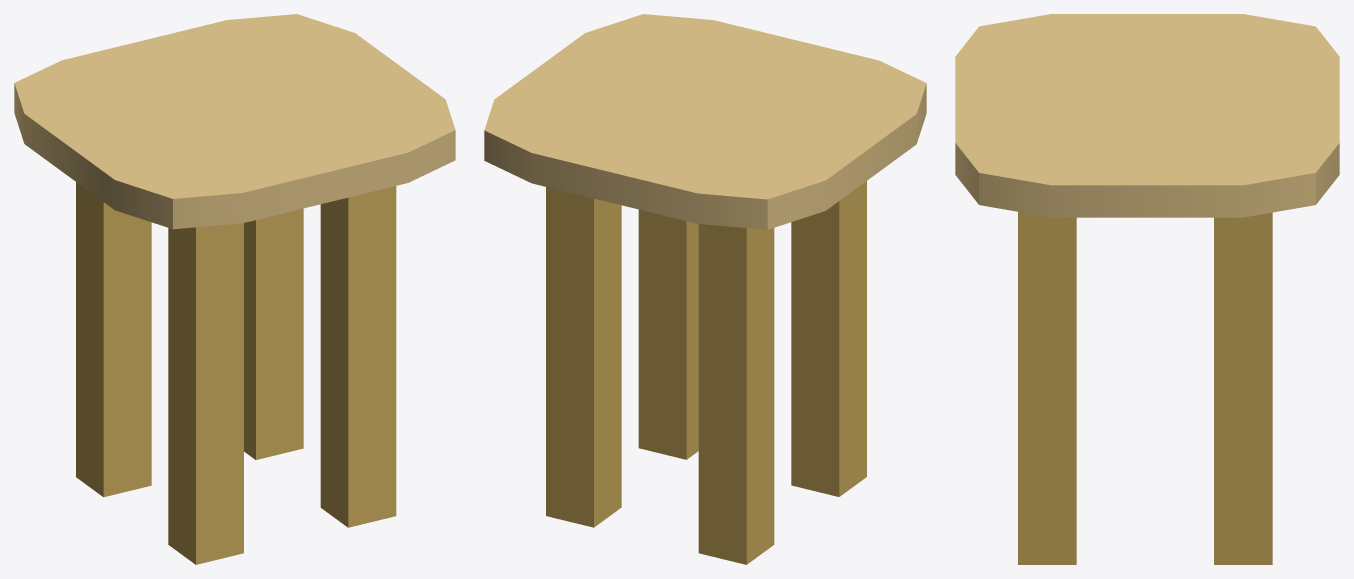
File: Kruk.fbx
The picture shows the model from 3 angles, left to right: view 1: azimuth 30°, elevation 25°; view 2: azimuth 150°, elevation 25°; view 3: azimuth 270°, elevation 25°; orthographic projection. The views are drawn at different scales.
Visible parts, largest first — view 1: pCube1, pasted__pCube3, pasted__pasted__pCube2, pCube2, pasted__pCube2; view 2: pCube1, pCube2, pasted__pCube2, pasted__pCube3, pasted__pasted__pCube2; view 3: pCube1, pasted__pasted__pCube2, pasted__pCube2.
Boxes of the visible parts, x1,y1,x2,y2 form: pCube1: (14, 14, 455, 229); pasted__pCube3: (168, 223, 243, 564); pasted__pasted__pCube2: (320, 186, 396, 527); pCube2: (76, 182, 151, 497); pasted__pCube2: (244, 208, 303, 459); pCube1: (484, 14, 926, 229); pCube2: (698, 224, 774, 564); pasted__pCube2: (546, 187, 621, 527); pasted__pCube3: (791, 181, 866, 496); pasted__pasted__pCube2: (638, 209, 698, 459); pCube1: (955, 14, 1339, 217); pasted__pasted__pCube2: (1018, 212, 1076, 564); pasted__pCube2: (1214, 212, 1272, 564).
Size of the model in its own units: 1.85 by 2.08 by 1.75.
